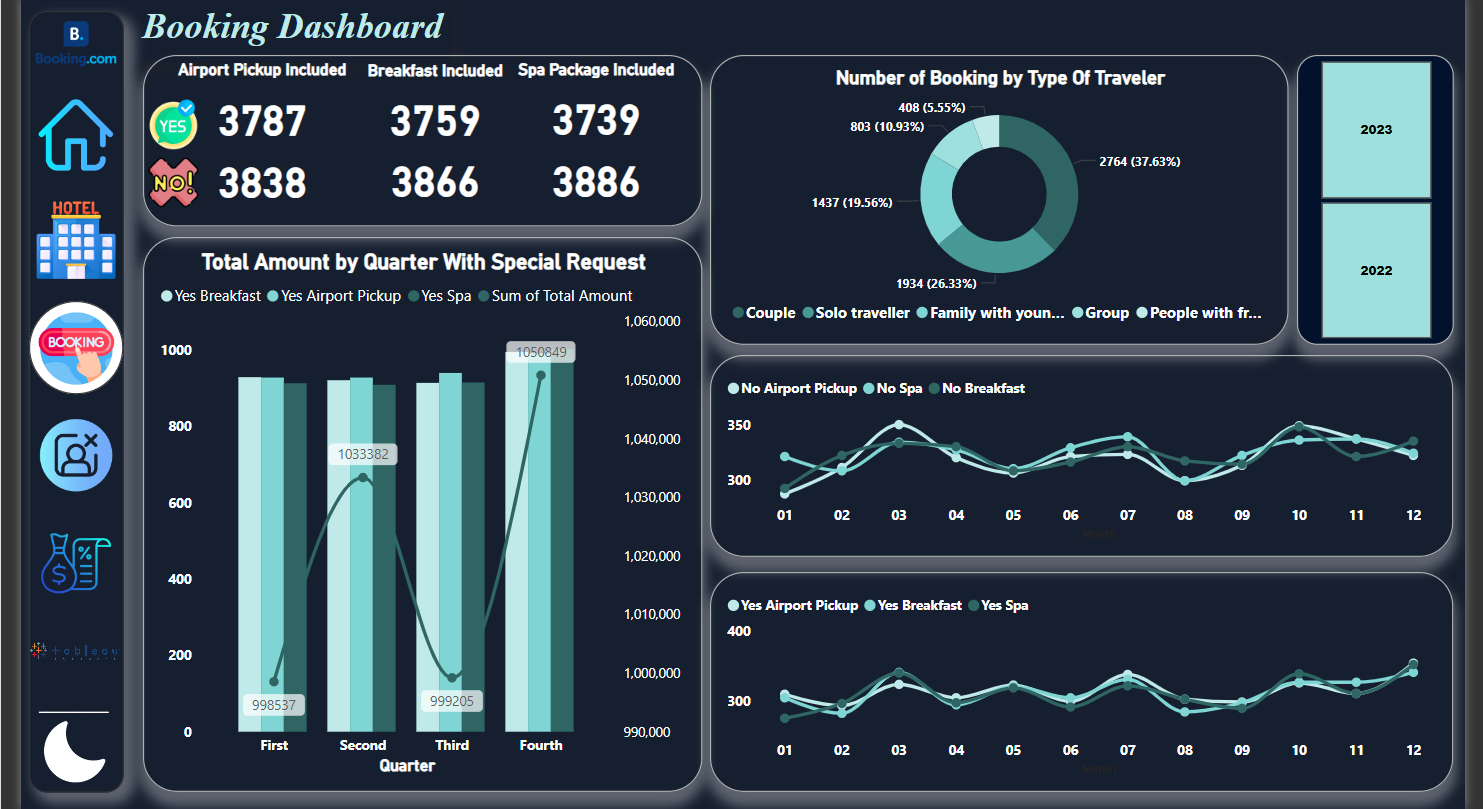

Layout of this report page (visuals, bound fields, positions):
{"tool":"tableau","page":{"name":"Booking Dashboard ","canvas":[1450,830],"ordinal":0},"visuals":[{"type":"image","param":"Image/boas.jpg","box":[8,8,1434,814]},{"type":"text","box":[508,26.4,370,34.2]},{"type":"image","param":"Image/choose.png","box":[91,28.3,47,39.1]},{"type":"text","box":[65,75.2,100,29.3]},{"type":"worksheet","title":"Num Of Completed and Cancelled Booking","mark":"Pie","box":[218,89,374,191]},{"type":"worksheet","title":" Booking with Breakfast Included","mark":"Automatic","rows":["Calculation_673288203220189195","Calculation_673288203220189195"],"box":[597,92,372,186]},{"type":"worksheet","title":"Bookings By Room Type ","mark":"Automatic","rows":["Booking_id_SK","Booking_id_SK"],"cols":["Room Type"],"box":[992,93,427,384]},{"type":"dashboard-object","box":[26,133.8,174,52.7]},{"type":"dashboard-object","box":[27,210.9,174,46.9]},{"type":"dashboard-object","box":[26,284.2,174,46.9]},{"type":"worksheet","title":" Booking with Spa Included","mark":"Automatic","rows":["Calculation_673288203220189195","Calculation_673288203220189195"],"box":[222,291,369,194]},{"type":"worksheet","title":" Booking with Airport Pickup Included","mark":"Automatic","rows":["Calculation_673288203220189195","Calculation_673288203220189195"],"box":[599,292,372,191]},{"type":"dashboard-object","box":[26,357.4,174,46.9]},{"type":"dashboard-object","box":[26,437.5,174,46.9]},{"type":"worksheet","title":"Num Of Bookings By Countries","mark":"Automatic","rows":["Booking_id_SK"],"cols":["Country"],"box":[219,496,1203,310]},{"type":"blank","box":[53,504,123,2]},{"type":"text","box":[80,519,73,34]},{"type":"dashboard-object","box":[71,565,76,39]},{"type":"dashboard-object","box":[122,565,91,39]},{"type":"blank","box":[51,631,123,2]},{"type":"text","box":[47,644,144,25]},{"type":"image","param":"Image/Microsoft-Power-BI-Symbol.png","box":[75,676,77,61]}]}

Visuals, with their boxes on the page's 1450x830 design canvas (x1, y1, x2, y2). These are canvas units, not pixel positions in the 1483x809 screenshot, which may show the page scaled, cropped or inside an application window:
image: {"left": 8, "top": 8, "right": 1442, "bottom": 822}
text: {"left": 508, "top": 26, "right": 878, "bottom": 61}
image: {"left": 91, "top": 28, "right": 138, "bottom": 67}
text: {"left": 65, "top": 75, "right": 165, "bottom": 104}
"Num Of Completed and Cancelled Booking" worksheet (Pie marks): {"left": 218, "top": 89, "right": 592, "bottom": 280}
" Booking with Breakfast Included" worksheet: {"left": 597, "top": 92, "right": 969, "bottom": 278}
"Bookings By Room Type " worksheet: {"left": 992, "top": 93, "right": 1419, "bottom": 477}
dashboard-object: {"left": 26, "top": 134, "right": 200, "bottom": 186}
dashboard-object: {"left": 27, "top": 211, "right": 201, "bottom": 258}
dashboard-object: {"left": 26, "top": 284, "right": 200, "bottom": 331}
" Booking with Spa Included" worksheet: {"left": 222, "top": 291, "right": 591, "bottom": 485}
" Booking with Airport Pickup Included" worksheet: {"left": 599, "top": 292, "right": 971, "bottom": 483}
dashboard-object: {"left": 26, "top": 357, "right": 200, "bottom": 404}
dashboard-object: {"left": 26, "top": 438, "right": 200, "bottom": 484}
"Num Of Bookings By Countries" worksheet: {"left": 219, "top": 496, "right": 1422, "bottom": 806}
blank: {"left": 53, "top": 504, "right": 176, "bottom": 506}
text: {"left": 80, "top": 519, "right": 153, "bottom": 553}
dashboard-object: {"left": 71, "top": 565, "right": 147, "bottom": 604}
dashboard-object: {"left": 122, "top": 565, "right": 213, "bottom": 604}
blank: {"left": 51, "top": 631, "right": 174, "bottom": 633}
text: {"left": 47, "top": 644, "right": 191, "bottom": 669}
image: {"left": 75, "top": 676, "right": 152, "bottom": 737}
